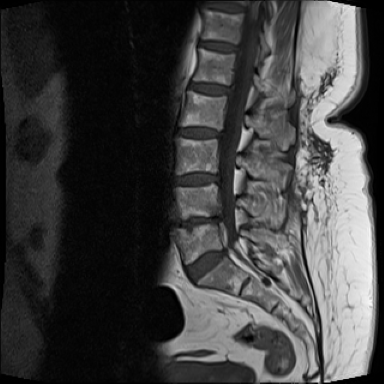Degenerative Disc Disease (DDD): (181, 246, 233, 291), (169, 165, 227, 194), (172, 124, 225, 144), (195, 3, 249, 15)
Lumbar Disc Bulge (LDB): (164, 204, 230, 236), (181, 77, 241, 105)
Spinal Stenosis (SS): (205, 197, 240, 237)
Thoracic Disc Bulge (TDB): (192, 37, 244, 59)
